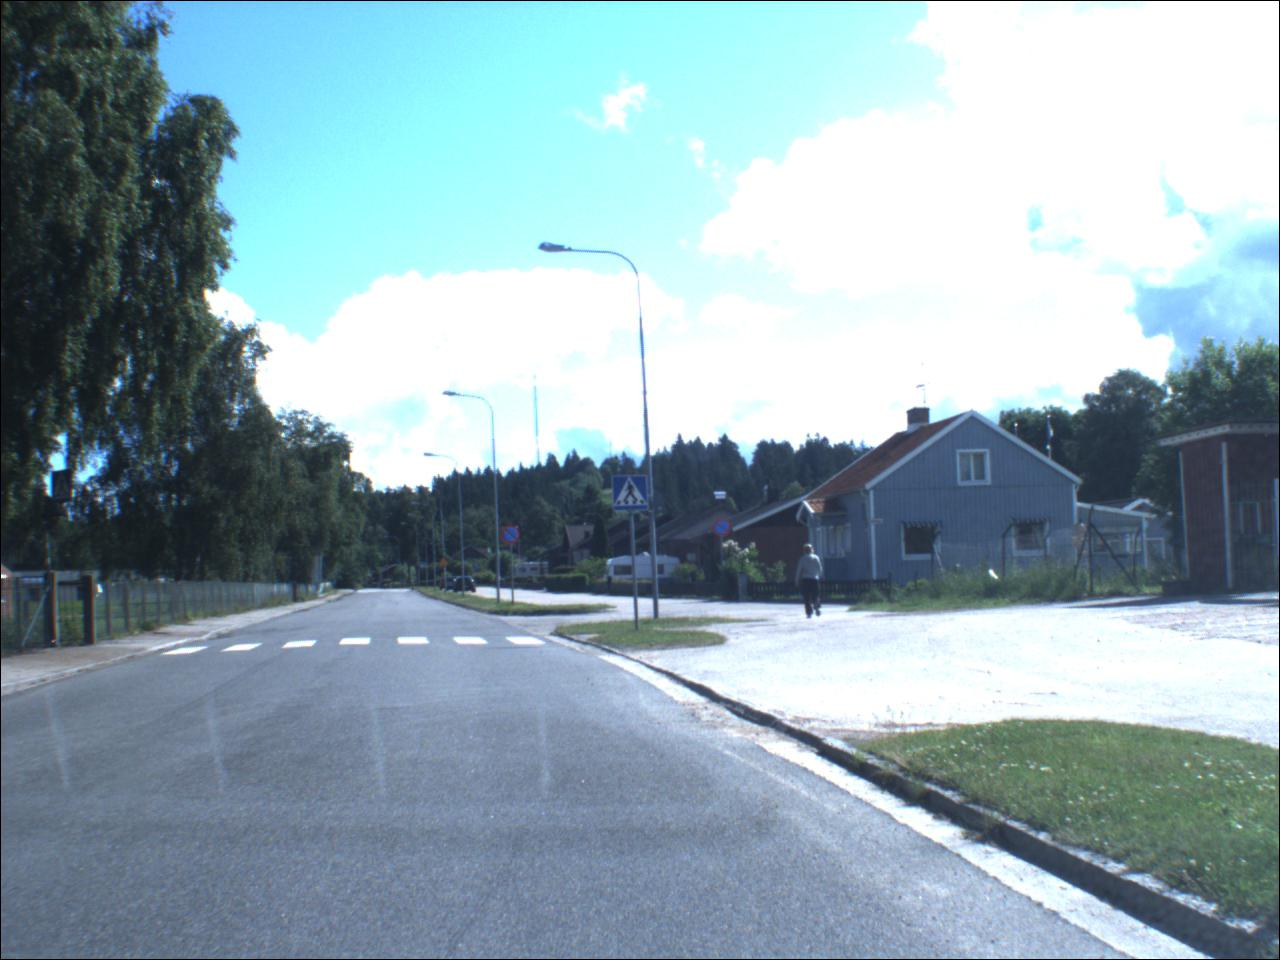NO_PARKING: (713, 518, 736, 543), (501, 526, 525, 548)
PEDESTRIAN_CROSSING: (614, 477, 652, 513), (421, 564, 431, 572)
WARNING_PEDESTRIANS: (440, 558, 452, 570)
